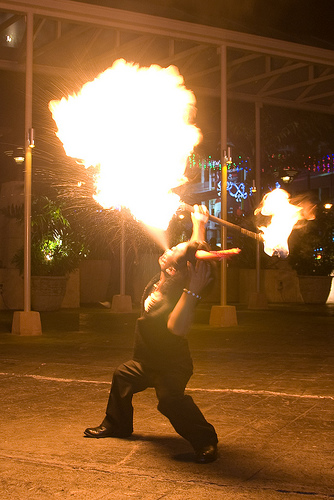fire: (50, 63, 193, 233), (255, 181, 313, 251)
